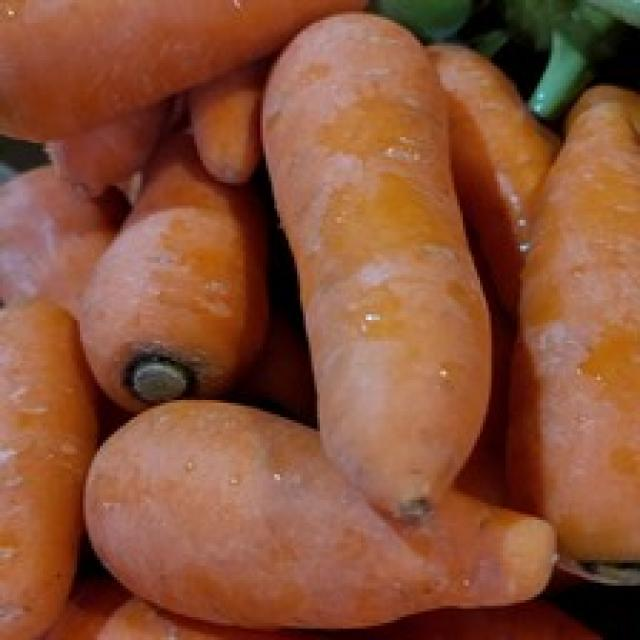Fresh_Carrot: (257, 14, 481, 530), (83, 399, 550, 630), (510, 84, 640, 558)
